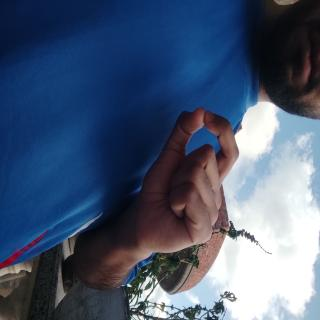FAA: (72, 100, 196, 268)
